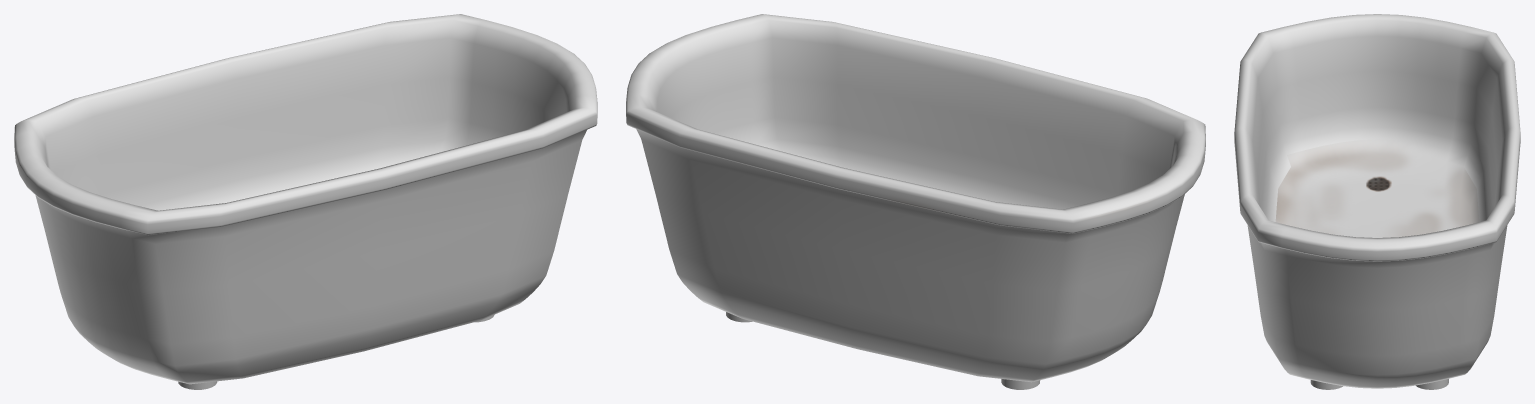
File: ASSET_BATHTUB_02.fbx
The picture shows the model from 3 angles, left to right: view 1: azimuth 30°, elevation 25°; view 2: azimuth 150°, elevation 25°; view 3: azimuth 270°, elevation 25°; orthographic projection. The views are drawn at different scales.
Parts seen in each view (by area): view 1: pCube1; view 2: pCube1; view 3: pCube1.
Boxes of the visible parts, <box> form: pCube1: <box>14,14,597,384</box>; pCube1: <box>626,14,1205,382</box>; pCube1: <box>1234,14,1520,388</box>.
Size of the model in its own units: 21.55 by 8.24 by 11.1.
